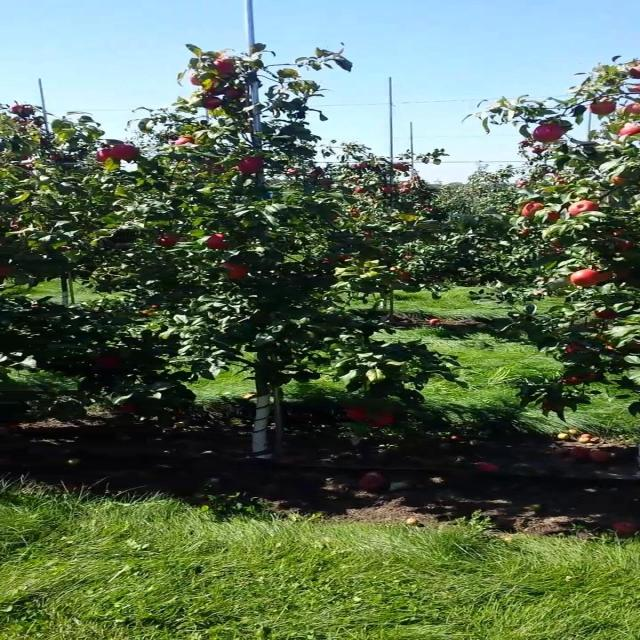apple: (532, 124, 565, 144), (589, 100, 619, 116), (369, 412, 398, 428), (220, 264, 249, 280), (113, 144, 140, 160), (575, 200, 599, 215), (575, 272, 597, 288), (241, 160, 263, 174), (205, 236, 228, 249), (348, 408, 370, 421), (99, 356, 121, 369), (99, 148, 117, 163), (156, 236, 178, 248), (525, 204, 546, 216), (596, 272, 617, 283), (220, 60, 235, 75), (227, 88, 244, 100), (547, 400, 564, 412), (582, 372, 599, 383), (596, 312, 619, 320), (205, 80, 220, 92), (177, 136, 194, 146), (625, 124, 639, 136), (568, 344, 583, 355), (618, 240, 633, 251), (205, 100, 222, 109), (120, 404, 137, 413), (205, 88, 224, 96), (547, 212, 562, 221), (611, 176, 626, 185), (618, 272, 633, 281), (191, 76, 203, 87), (604, 344, 619, 352), (6, 264, 14, 275), (632, 104, 639, 115), (632, 68, 639, 79), (632, 84, 639, 94), (568, 380, 583, 384)
